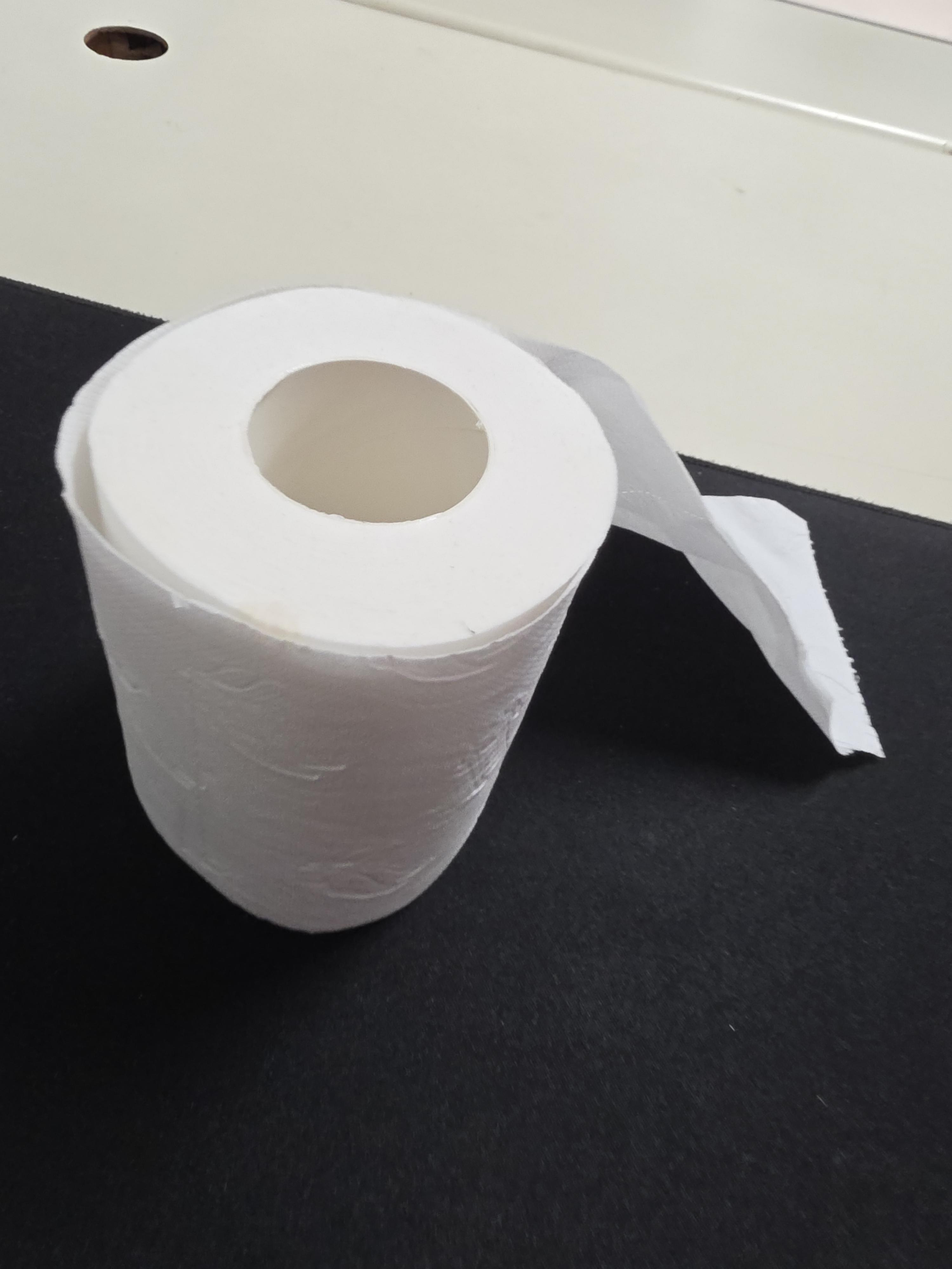tissue: (55, 285, 885, 934)
